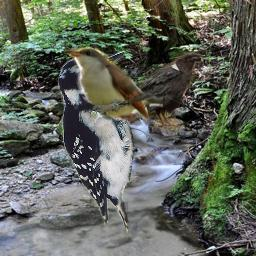Crow: (111, 51, 204, 133)
Cuckoo: (61, 40, 163, 124)
Woodpecker: (58, 52, 138, 236)
